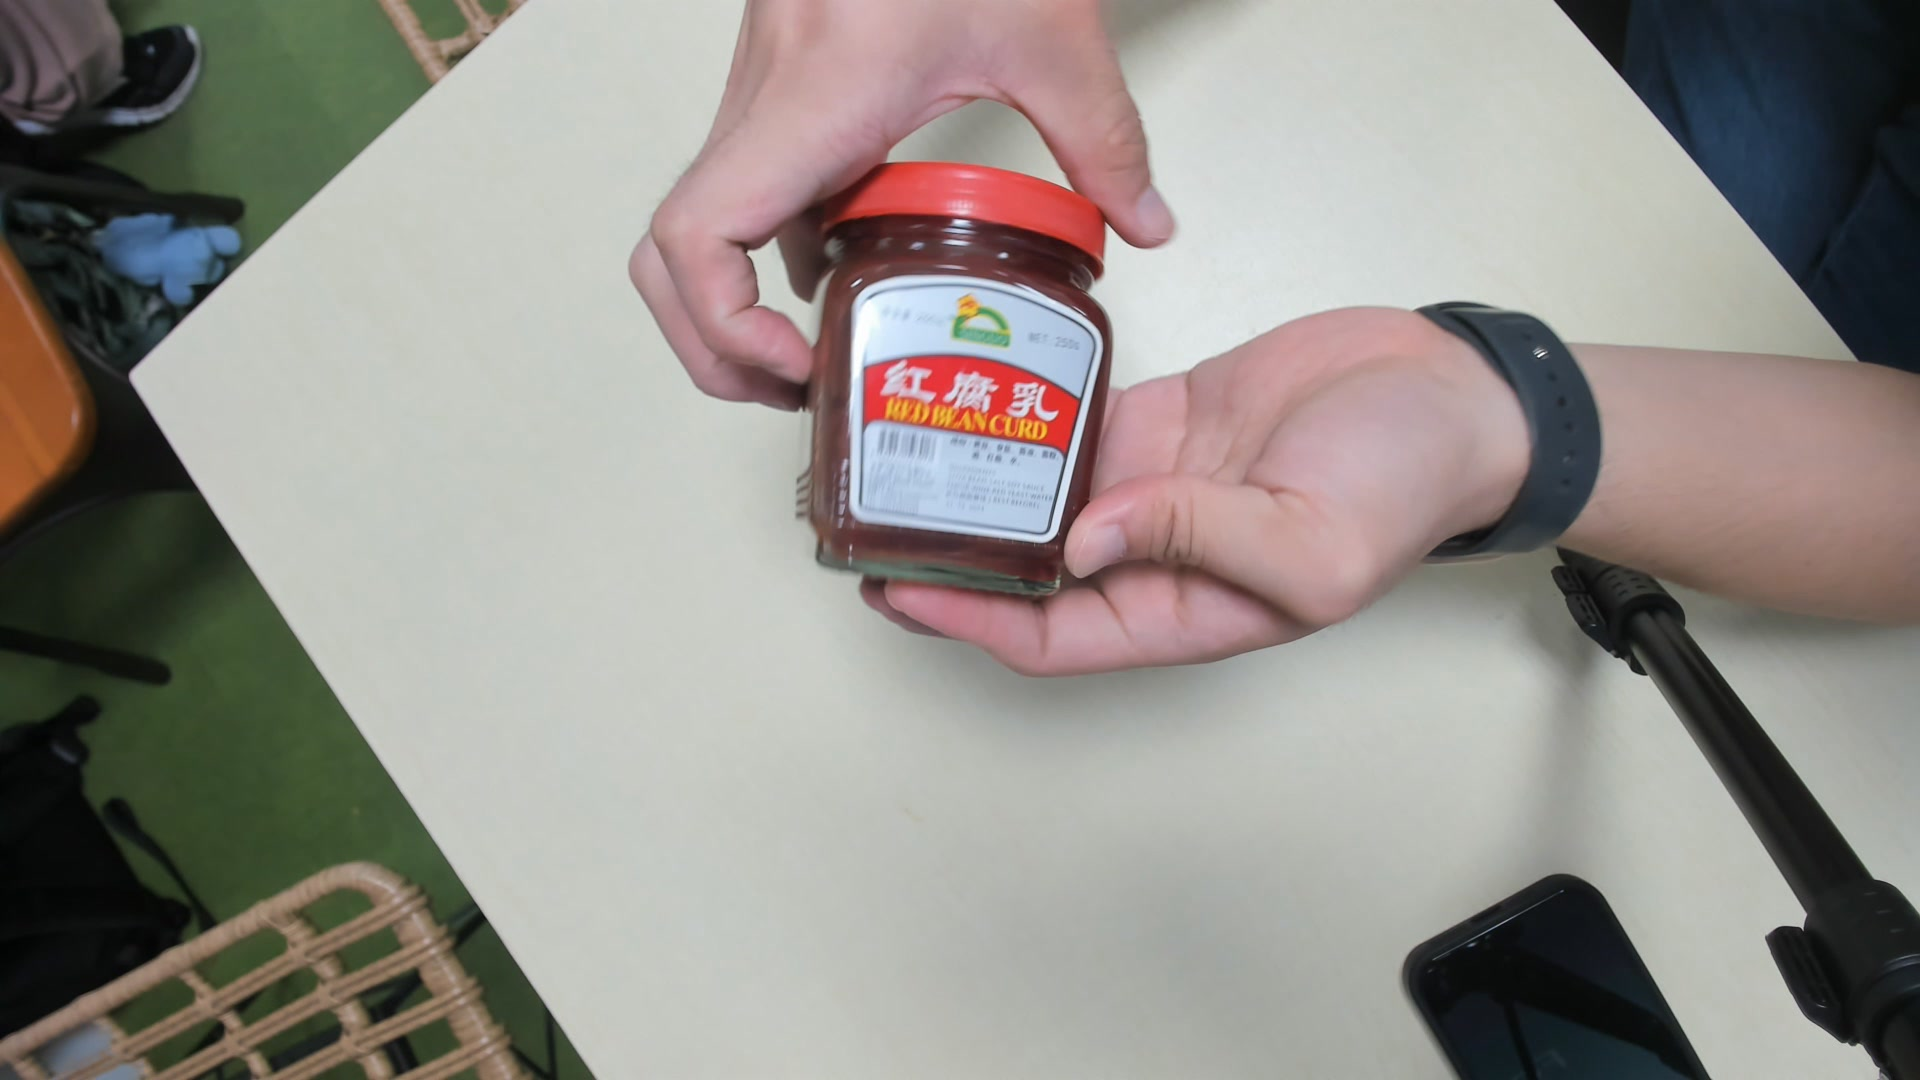OtherSauceDressing_200-299g_NonHalal_NonHealthy: (803, 164, 1113, 608)
